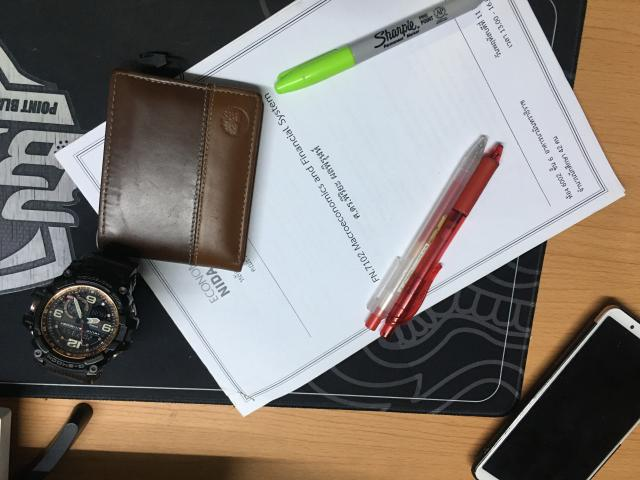Mobile phone: (472, 305, 640, 480)
Pen: (365, 135, 502, 339), (275, 0, 482, 94)
Wallet: (98, 69, 262, 271)
Watch: (22, 251, 139, 384)
paper: (50, 0, 624, 415)
